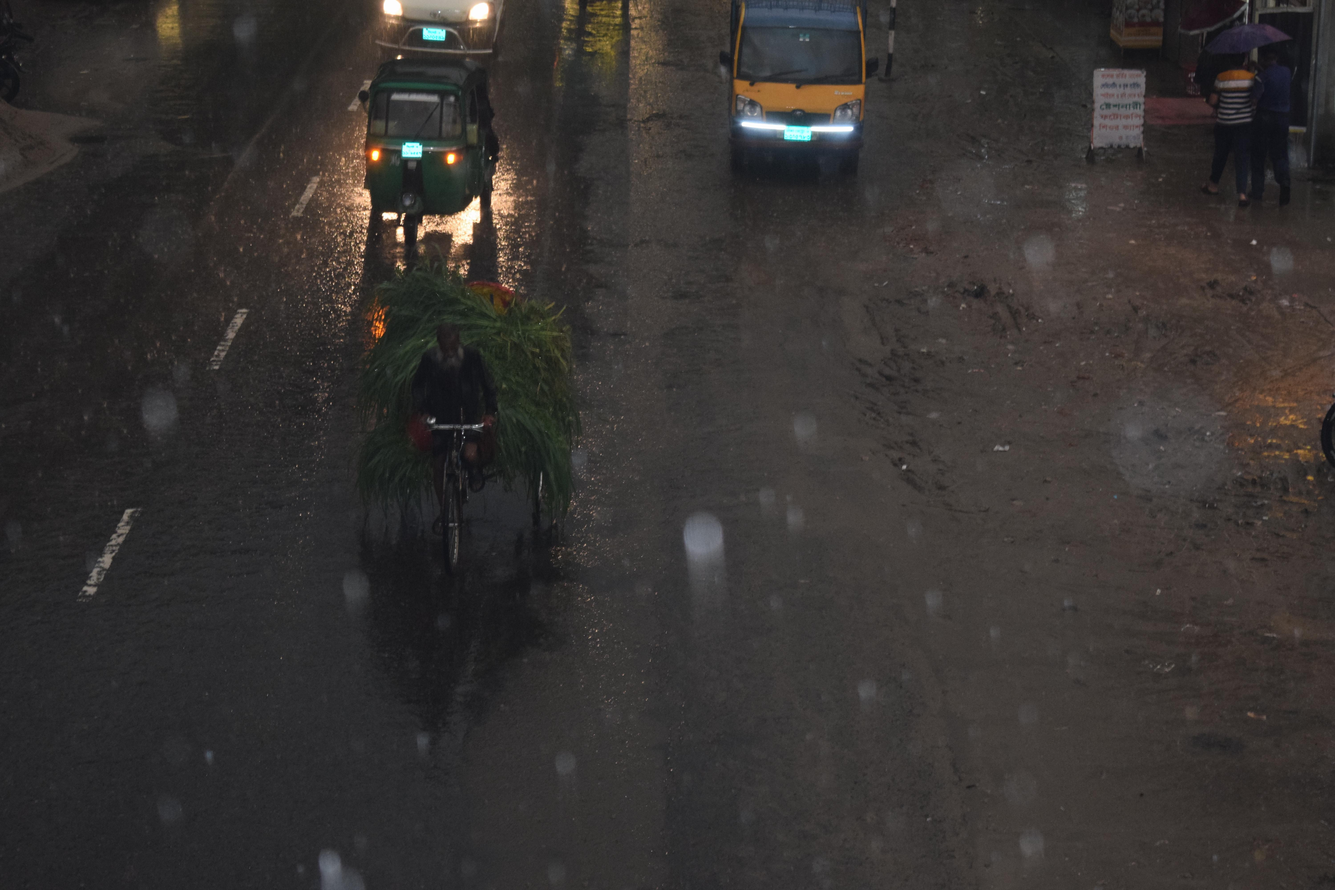Truck: (695, 0, 901, 216)
